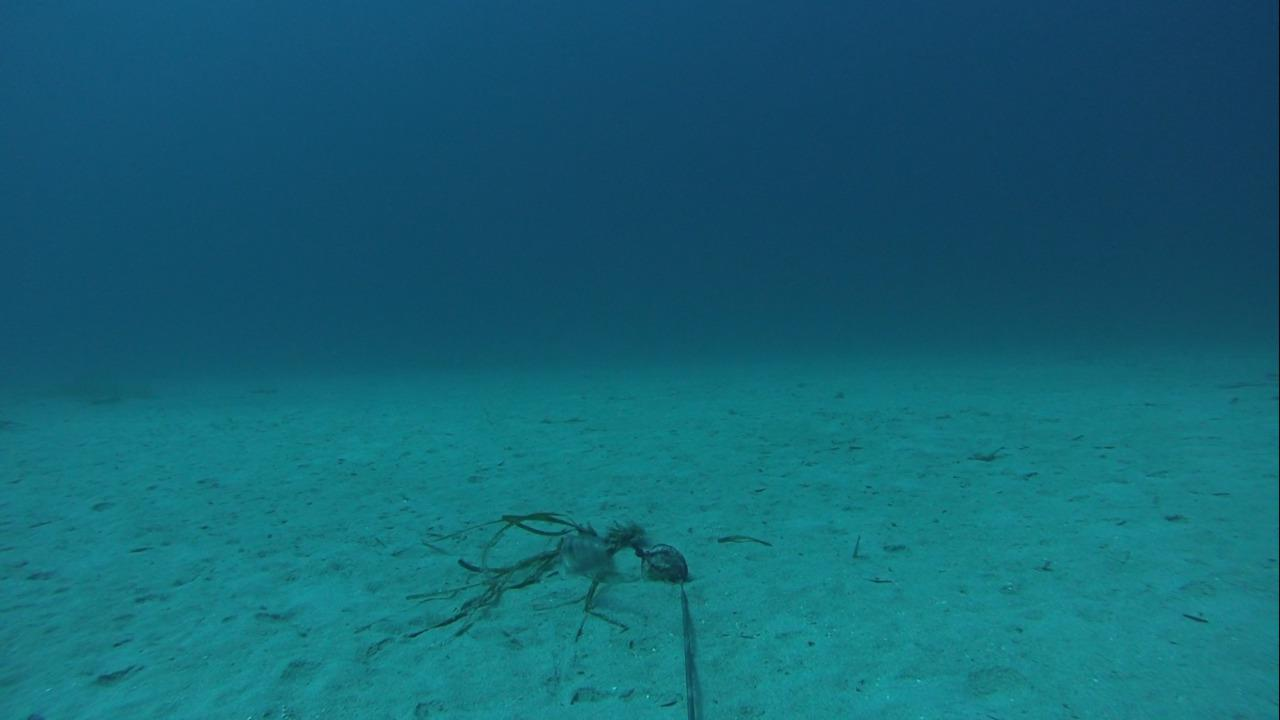raor: (549, 530, 617, 573)
